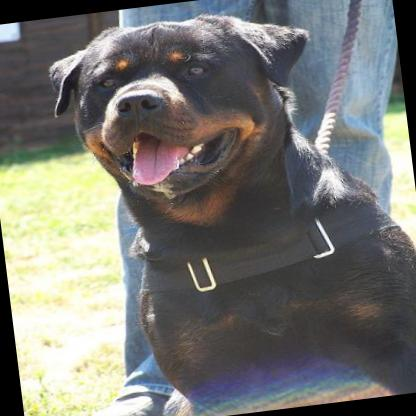Rottweiler: (43, 0, 416, 416)
